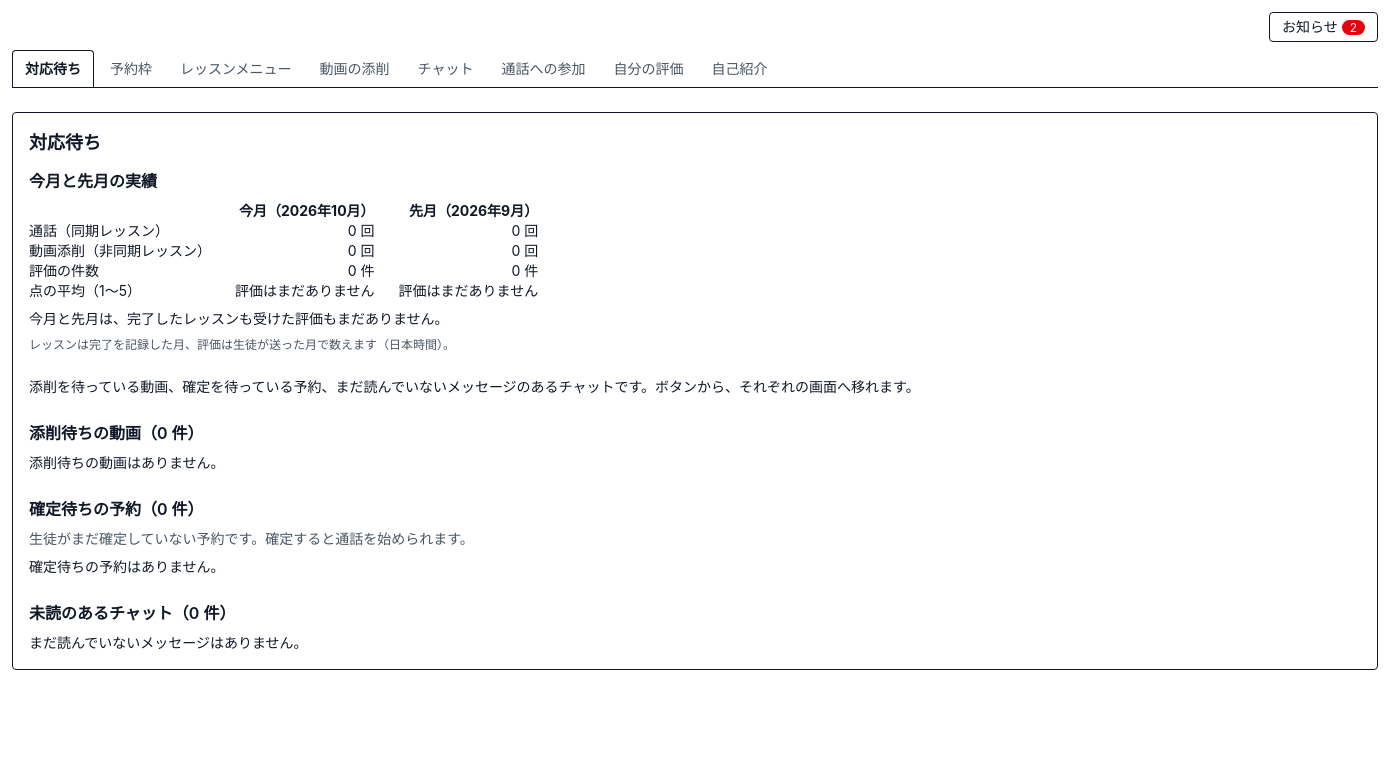
Scenario: コーチのお知らせ › 既読にできなくても一覧は出し、未読の数は残す
Click the button "お知らせ2".
click(1323, 27)  # box left=1269, top=12, right=1378, bottom=42
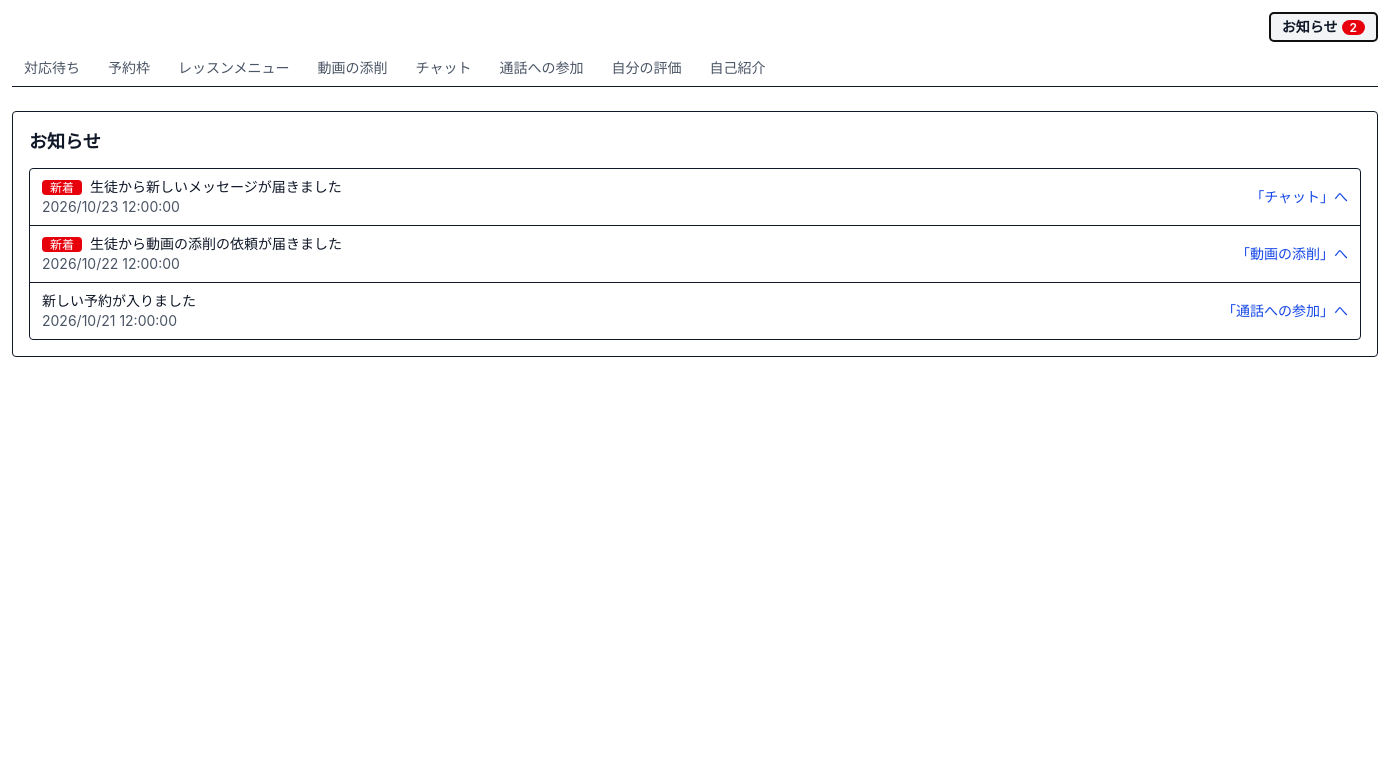
Result: the number of list items is 3 at left=30, top=169, right=1360, bottom=226; left=30, top=226, right=1360, bottom=283; left=30, top=283, right=1360, bottom=339
